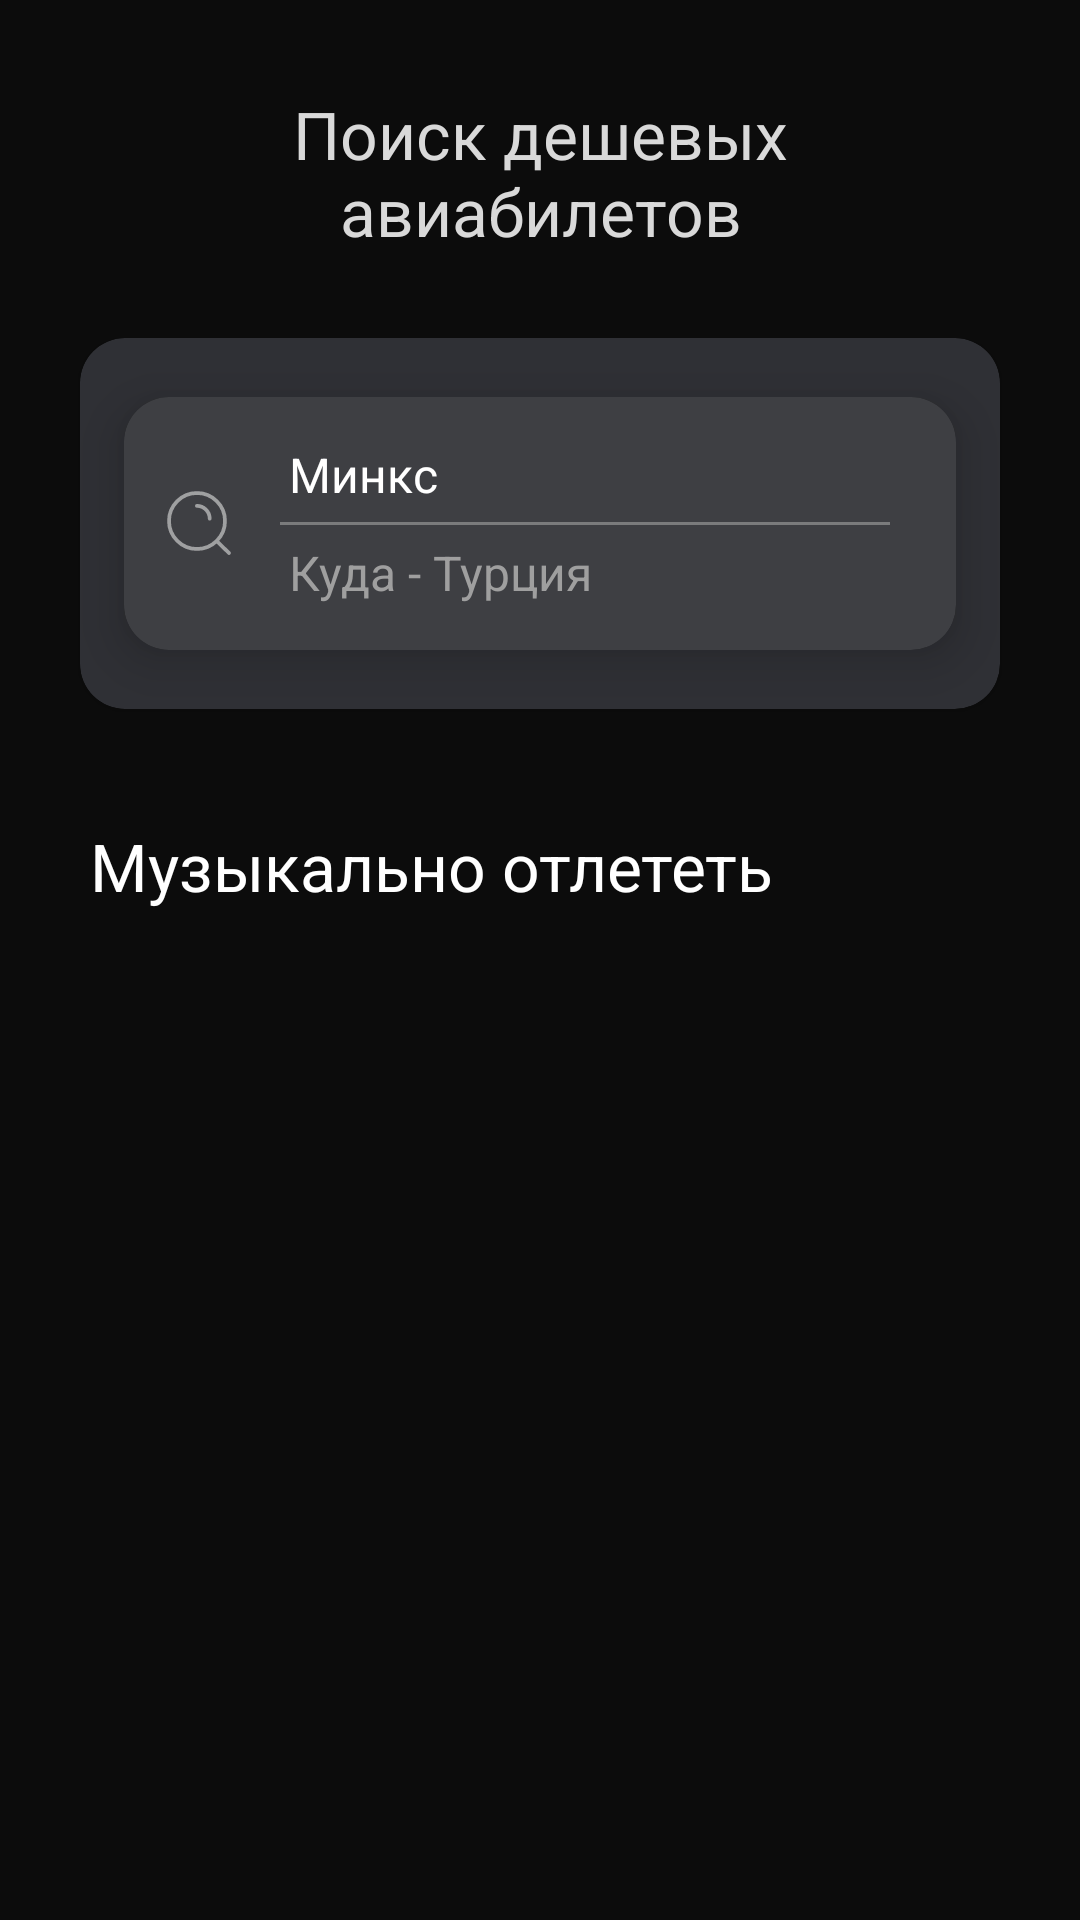

Screen size 1080x1920. Icon name, then its box in pixels as {"left": x1, "top": y1, "right": x2, "bottom": y2}:
search: {"left": 167, "top": 491, "right": 231, "bottom": 555}
